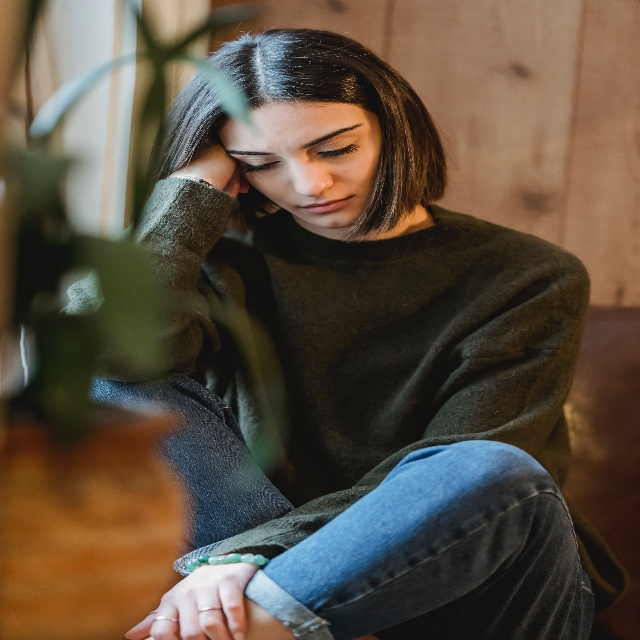Sin_guantes: (123, 567, 255, 640), (176, 145, 248, 197)
